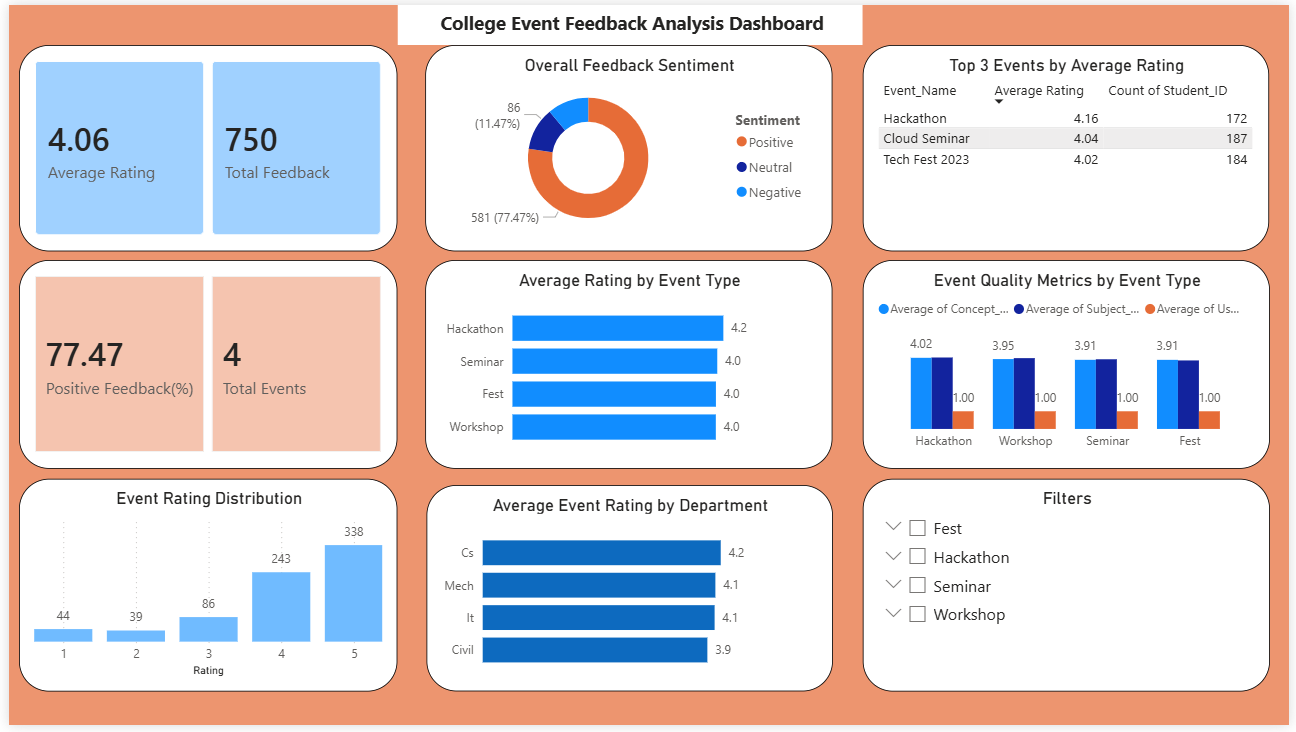

Layout of this report page (visuals, bound fields, positions):
{"tool":"powerbi","page":{"name":"Page 1","canvas":[1280,720],"ordinal":0},"visuals":[{"type":"cardVisual","fields":{"Data":["FINAL_ANALYZED_EVENT_FEEDBACK.Average Rating","FINAL_ANALYZED_EVENT_FEEDBACK.Total Feedback"]},"box":[10,40,378.8,206.2],"z":0},{"type":"clusteredColumnChart","title":"Event Rating Distribution","fields":{"Category":["FINAL_ANALYZED_EVENT_FEEDBACK.Rating"],"Y":["CountNonNull(FINAL_ANALYZED_EVENT_FEEDBACK.Rating)"]},"box":[10,473.8,378.8,212.5],"z":1000},{"type":"donutChart","title":"Overall Feedback Sentiment","fields":{"Category":["FINAL_ANALYZED_EVENT_FEEDBACK.Sentiment"],"Y":["CountNonNull(FINAL_ANALYZED_EVENT_FEEDBACK.Sentiment)"]},"box":[416.2,40,407.5,206.2],"z":2000},{"type":"barChart","title":"Average Rating by Event Type","fields":{"Category":["FINAL_ANALYZED_EVENT_FEEDBACK.Event_Type"],"Y":["FINAL_ANALYZED_EVENT_FEEDBACK.Average Rating"]},"box":[416.2,255,407.5,208.8],"z":3000},{"type":"tableEx","title":"Top 3 Events by Average Rating","fields":{"Values":["FINAL_ANALYZED_EVENT_FEEDBACK.Event_Name","FINAL_ANALYZED_EVENT_FEEDBACK.Average Rating","FINAL_ANALYZED_EVENT_FEEDBACK.Student_ID"]},"box":[853.8,40,406.2,206.2],"z":4000},{"type":"barChart","title":"Average Event Rating by Department","fields":{"Y":["FINAL_ANALYZED_EVENT_FEEDBACK.Average Rating"],"Category":["FINAL_ANALYZED_EVENT_FEEDBACK.Department"]},"box":[417.5,480,406.2,206.2],"z":5000},{"type":"clusteredColumnChart","title":"Event Quality Metrics by Event Type","fields":{"Category":["FINAL_ANALYZED_EVENT_FEEDBACK.Event_Type"],"Y":["Avg(FINAL_ANALYZED_EVENT_FEEDBACK.Concept_Clarity_Score)","Avg(FINAL_ANALYZED_EVENT_FEEDBACK.Subject_Knowledge_Score)","Avg(FINAL_ANALYZED_EVENT_FEEDBACK.Use_of_PPT)"]},"box":[853.8,255,407.5,208.8],"z":6000},{"type":"slicer","title":"Filters","fields":{"Values":["FINAL_ANALYZED_EVENT_FEEDBACK.Event_Type","FINAL_ANALYZED_EVENT_FEEDBACK.Department","FINAL_ANALYZED_EVENT_FEEDBACK.Rating","FINAL_ANALYZED_EVENT_FEEDBACK.Sentiment"]},"box":[853.8,473.8,407.5,212.5],"z":7000},{"type":"cardVisual","fields":{"Data":["FINAL_ANALYZED_EVENT_FEEDBACK.Positive Feedback(%)","FINAL_ANALYZED_EVENT_FEEDBACK.Total Events"]},"box":[10,255,378.8,208.8],"z":8000},{"type":"textbox","box":[388.8,0,465,40],"z":9000}]}

Visuals, with their boxes in screenshot pixels (x1, y1, x2, y2), scaled from the page's 1280x720 canvas onto the 1296x732 screenshot:
cardVisual - FINAL_ANALYZED_EVENT_FEEDBACK.Average Rating x FINAL_ANALYZED_EVENT_FEEDBACK.Total Feedback: (left=10, top=41, right=394, bottom=250)
"Event Rating Distribution" clusteredColumnChart: (left=10, top=482, right=394, bottom=698)
"Overall Feedback Sentiment" donutChart: (left=421, top=41, right=834, bottom=250)
"Average Rating by Event Type" barChart: (left=421, top=259, right=834, bottom=472)
"Top 3 Events by Average Rating" tableEx: (left=864, top=41, right=1276, bottom=250)
"Average Event Rating by Department" barChart: (left=423, top=488, right=834, bottom=698)
"Event Quality Metrics by Event Type" clusteredColumnChart: (left=864, top=259, right=1277, bottom=472)
"Filters" slicer: (left=864, top=482, right=1277, bottom=698)
cardVisual - FINAL_ANALYZED_EVENT_FEEDBACK.Positive Feedback(%) x FINAL_ANALYZED_EVENT_FEEDBACK.Total Events: (left=10, top=259, right=394, bottom=472)
textbox: (left=394, top=0, right=864, bottom=41)
